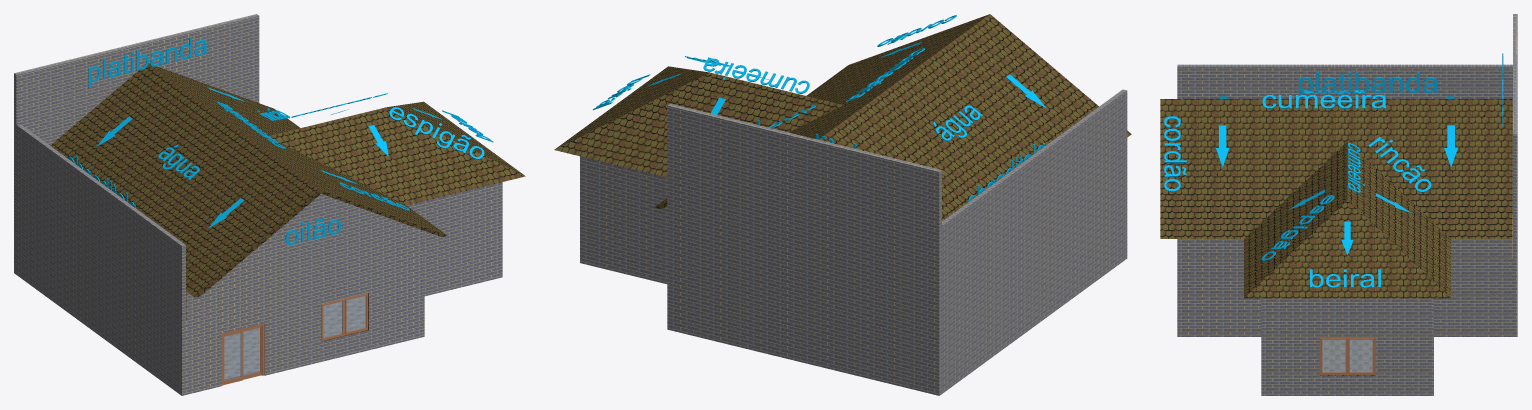
The model's file is casab.gltf.
3 renders of one model, left to right at view 1: azimuth 30°, elevation 25°; view 2: azimuth 150°, elevation 25°; view 3: azimuth 270°, elevation 25°, orthographic. The views are drawn at different scales.
Parts seen in each view (by area): view 1: root; view 2: root; view 3: root.
Boxes of the visible parts, x1,y1,x2,y2 form: root: [14, 14, 525, 395]; root: [554, 14, 1131, 395]; root: [1160, 14, 1517, 395].
Size of the model in its own units: 15.8 by 8 by 12.79.
Materials: 8 (4 with a texture image).
